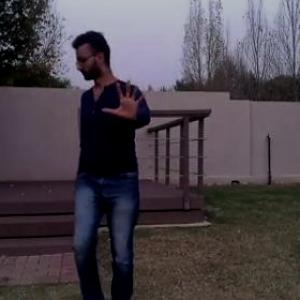follow_hand: (100, 74, 153, 128)
